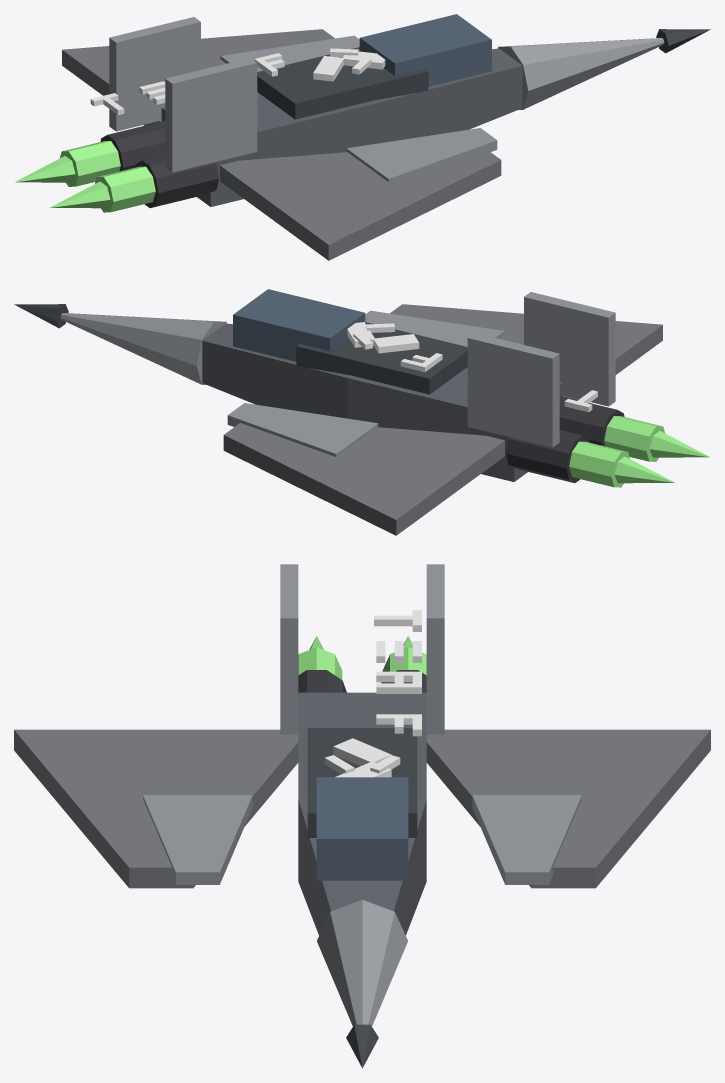
The model's file is FC_Fast.fbx.
3 renders of one model, top to bottom at view 1: azimuth 30°, elevation 25°; view 2: azimuth 150°, elevation 25°; view 3: azimuth 270°, elevation 25°, orthographic. The views are drawn at different scales.
Parts seen in each view (by area): view 1: FC_Fast; view 2: FC_Fast; view 3: FC_Fast.
Boxes of the visible parts, x1,y1,x2,y2 form: FC_Fast: [15, 14, 710, 260]; FC_Fast: [14, 289, 709, 535]; FC_Fast: [14, 564, 710, 1068].
Size of the model in its own units: 0.9184 by 0.1804 by 0.6248.
